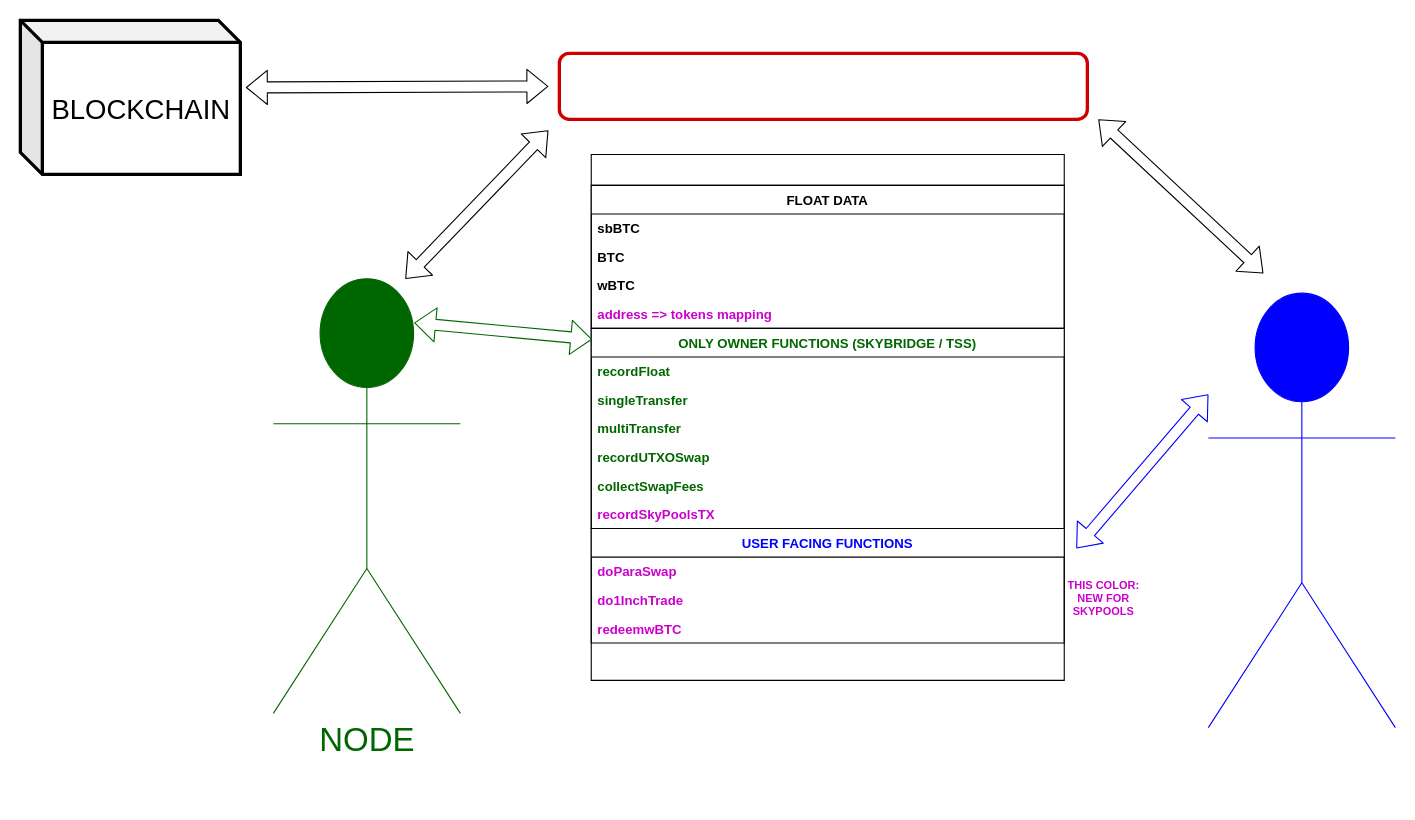
Some shapes in this 1415 by 820 pixel diagram are drawn without their labels. The box of each missing label's shape, as (x1, y1, x2, y2) in pixels:
SKYBRIDGE: (557, 51, 1088, 120)
SwapContract: (590, 153, 1064, 680)
USER: (1207, 292, 1395, 728)
